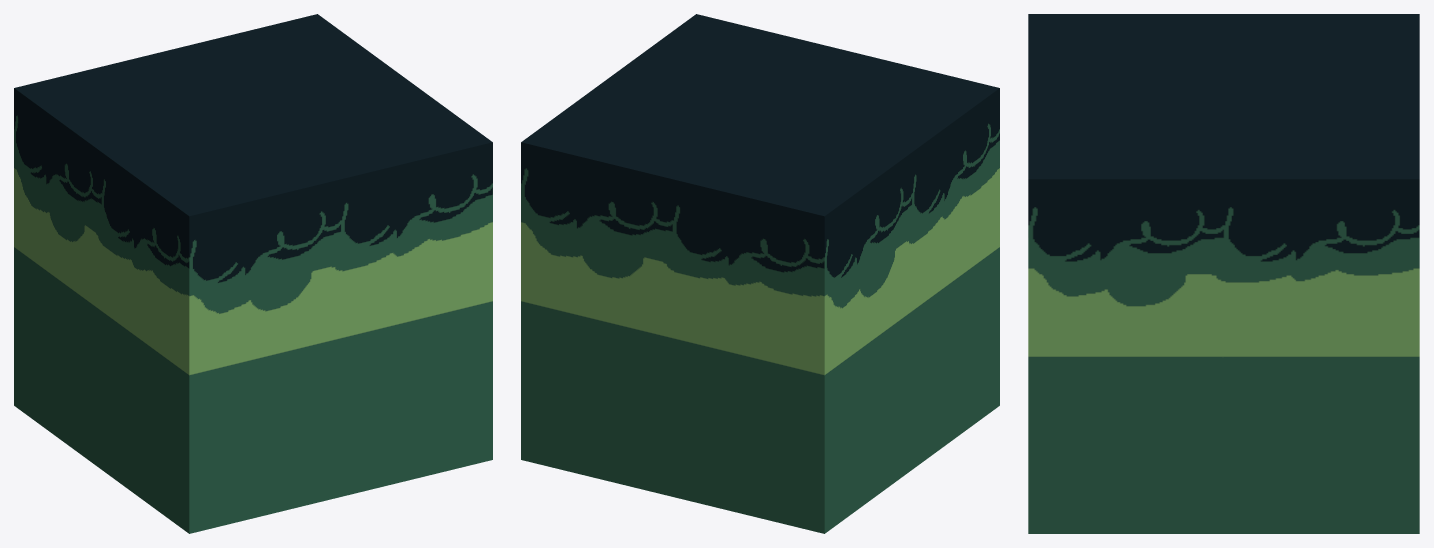
File: 8bit.gltf
3 views of the same model, side by side, from view 1: azimuth 30°, elevation 25°; view 2: azimuth 150°, elevation 25°; view 3: azimuth 270°, elevation 25° (orthographic). The views are drawn at different scales.
Visible parts, largest first — view 1: Cube.001_Cube.004; view 2: Cube.001_Cube.004; view 3: Cube.001_Cube.004.
Part boxes in pixels (x1,y1,x2,y2): Cube.001_Cube.004: (14, 14, 492, 533); Cube.001_Cube.004: (521, 14, 999, 533); Cube.001_Cube.004: (1028, 14, 1419, 533).
Bounding box in the file's own units: 640 × 640 × 640.
Materials: 35 (35 with a texture image).
